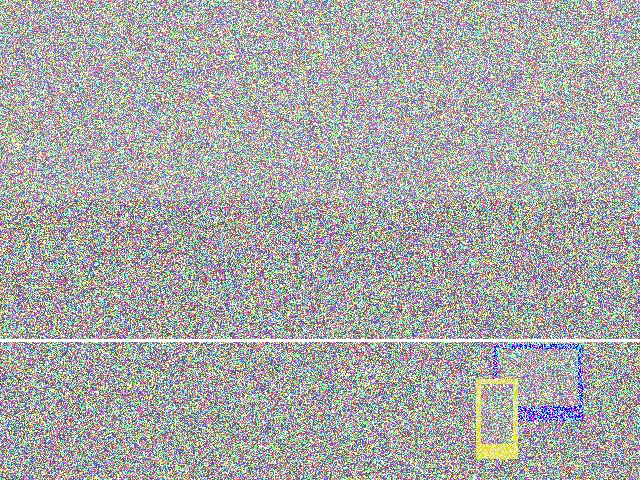bus: (20, 358, 142, 456)
car: (146, 211, 238, 343)
motorcycle: (61, 303, 172, 359)
